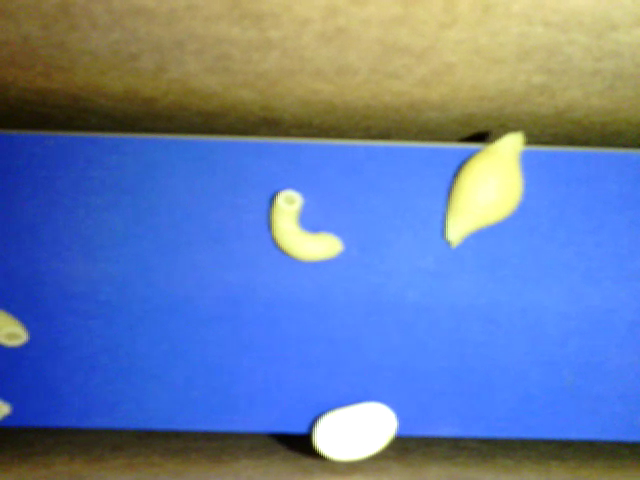elbow: (269, 187, 345, 262)
shell: (444, 131, 525, 247)
